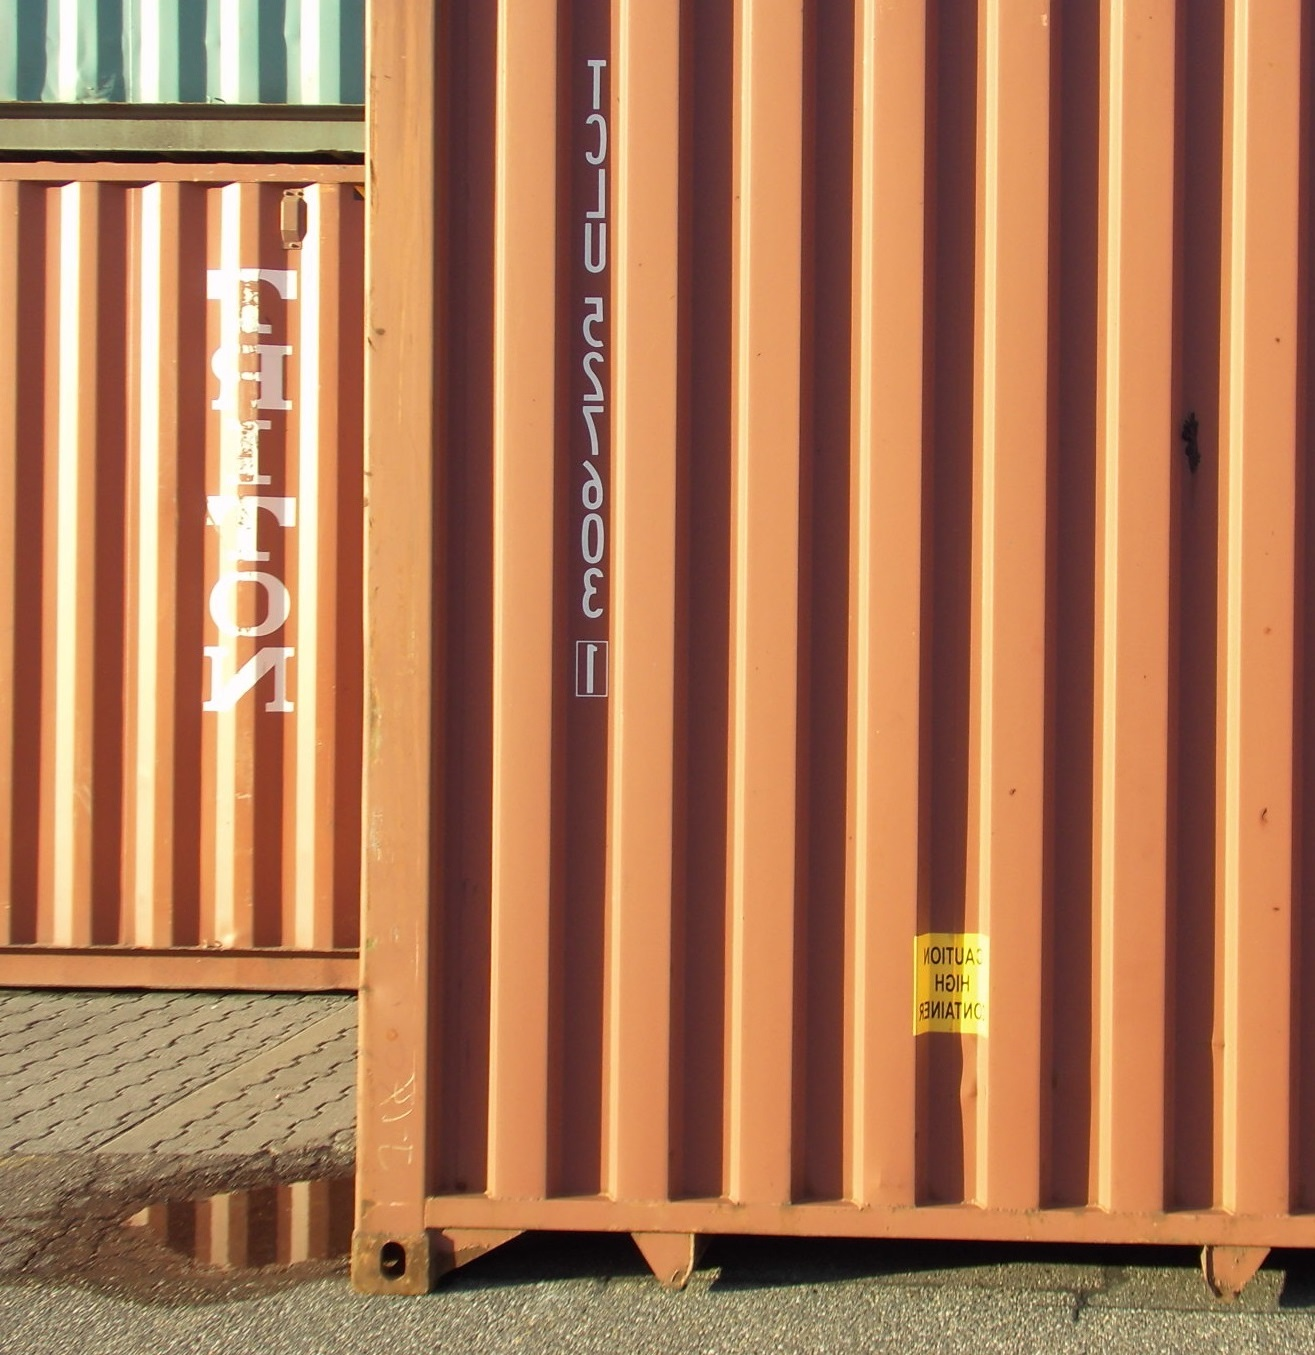container_no_door: (347, 5, 1302, 1301), (1, 162, 363, 1003)
